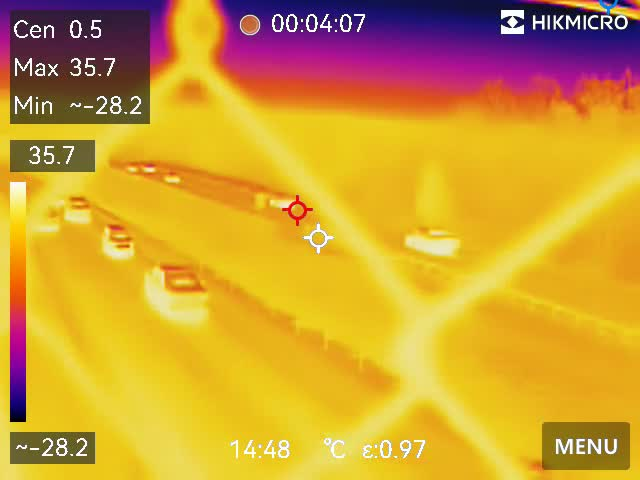vehicle: (145, 258, 214, 307), (397, 221, 458, 252), (101, 221, 137, 255), (60, 196, 94, 221), (158, 170, 181, 187), (138, 161, 157, 173)
